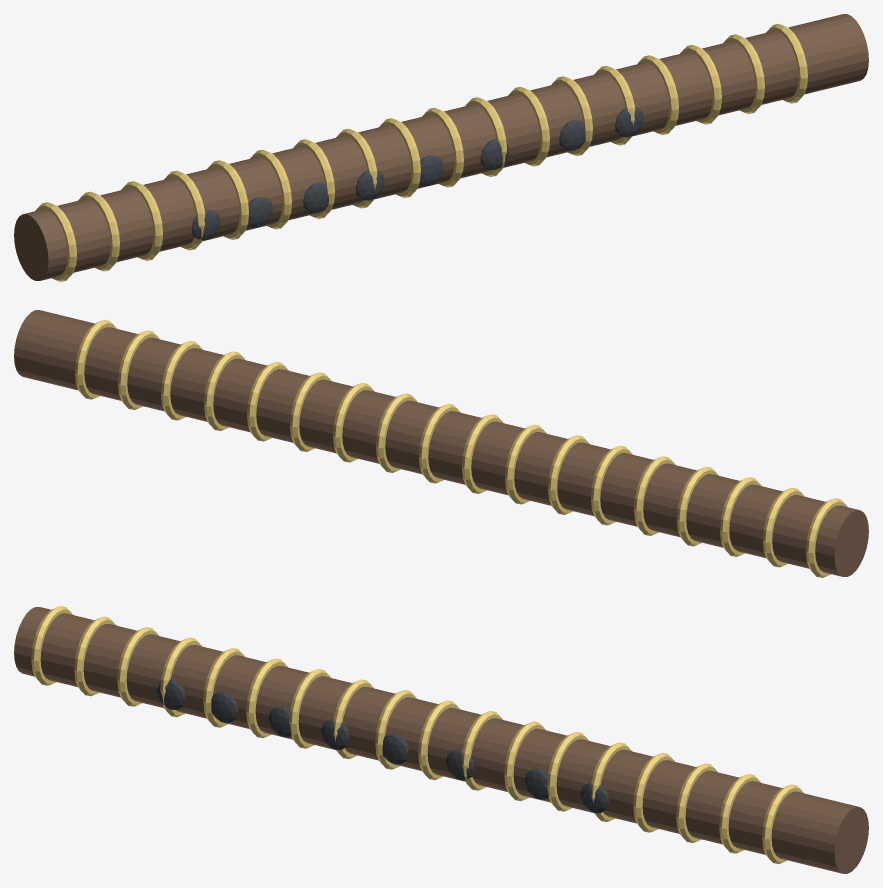
The model's file is noh_nokan.glb.
The picture shows the model from 3 angles, top to bottom: view 1: azimuth 30°, elevation 25°; view 2: azimuth 150°, elevation 25°; view 3: azimuth 330°, elevation 25°; orthographic projection.
Visible parts, largest first — view 1: Nohkan decorated transverse flute, Nohkan bark wrapping.009, Nohkan bark wrapping.011, Nohkan bark wrapping.015, Nohkan bark wrapping.017, Nohkan bark wrapping.005, Nohkan bark wrapping.001, Nohkan bark wrapping.002, Nohkan bark wrapping.014, Nohkan bark wrapping.004, Nohkan bark wrapping.016, Nohkan bark wrapping (+15 smaller); view 2: Nohkan decorated transverse flute, Nohkan bark wrapping.007, Nohkan bark wrapping.009, Nohkan bark wrapping.011, Nohkan bark wrapping.013, Nohkan bark wrapping.015, Nohkan bark wrapping.017, Nohkan bark wrapping.005, Nohkan bark wrapping.003, Nohkan bark wrapping.001, Nohkan bark wrapping.002, Nohkan bark wrapping.012 (+7 smaller); view 3: Nohkan decorated transverse flute, Nohkan bark wrapping.009, Nohkan bark wrapping.011, Nohkan bark wrapping, Nohkan bark wrapping.002, Nohkan bark wrapping.005, Nohkan bark wrapping.001, Nohkan bark wrapping.015, Nohkan bark wrapping.017, Nohkan bark wrapping.016, Nohkan bark wrapping.014, Nohkan bark wrapping.012 (+15 smaller).
Part boxes in pixels (x1,y1,x2,y2): Nohkan decorated transverse flute: [14, 14, 868, 280]; Nohkan bark wrapping.009: [422, 107, 463, 187]; Nohkan bark wrapping.011: [508, 86, 549, 166]; Nohkan bark wrapping.015: [680, 45, 721, 124]; Nohkan bark wrapping.017: [766, 24, 807, 103]; Nohkan bark wrapping.005: [250, 149, 291, 229]; Nohkan bark wrapping.001: [78, 191, 119, 271]; Nohkan bark wrapping.002: [121, 181, 162, 260]; Nohkan bark wrapping.014: [637, 55, 678, 134]; Nohkan bark wrapping.004: [207, 160, 248, 239]; Nohkan bark wrapping.016: [723, 34, 764, 113]; Nohkan bark wrapping: [35, 202, 76, 281]; Nohkan decorated transverse flute: [14, 310, 868, 576]; Nohkan bark wrapping.007: [505, 424, 546, 504]; Nohkan bark wrapping.009: [419, 403, 460, 483]; Nohkan bark wrapping.011: [333, 382, 374, 462]; Nohkan bark wrapping.013: [247, 362, 288, 441]; Nohkan bark wrapping.015: [161, 341, 202, 420]; Nohkan bark wrapping.017: [75, 320, 116, 399]; Nohkan bark wrapping.005: [591, 445, 632, 525]; Nohkan bark wrapping.003: [677, 466, 718, 546]; Nohkan bark wrapping.001: [763, 487, 804, 567]; Nohkan bark wrapping.002: [720, 477, 761, 556]; Nohkan bark wrapping.012: [290, 372, 331, 451]; Nohkan decorated transverse flute: [14, 607, 868, 873]; Nohkan bark wrapping.009: [418, 700, 459, 780]; Nohkan bark wrapping.011: [504, 721, 545, 801]; Nohkan bark wrapping: [31, 606, 72, 685]; Nohkan bark wrapping.002: [117, 627, 158, 706]; Nohkan bark wrapping.005: [246, 658, 288, 738]; Nohkan bark wrapping.001: [74, 616, 116, 696]; Nohkan bark wrapping.015: [676, 763, 717, 842]; Nohkan bark wrapping.017: [762, 784, 803, 863]; Nohkan bark wrapping.016: [719, 774, 760, 853]; Nohkan bark wrapping.014: [633, 753, 674, 832]; Nohkan bark wrapping.012: [547, 732, 588, 811].
Size of the model in its own units: 1.95 by 0.1685 by 0.1685.
